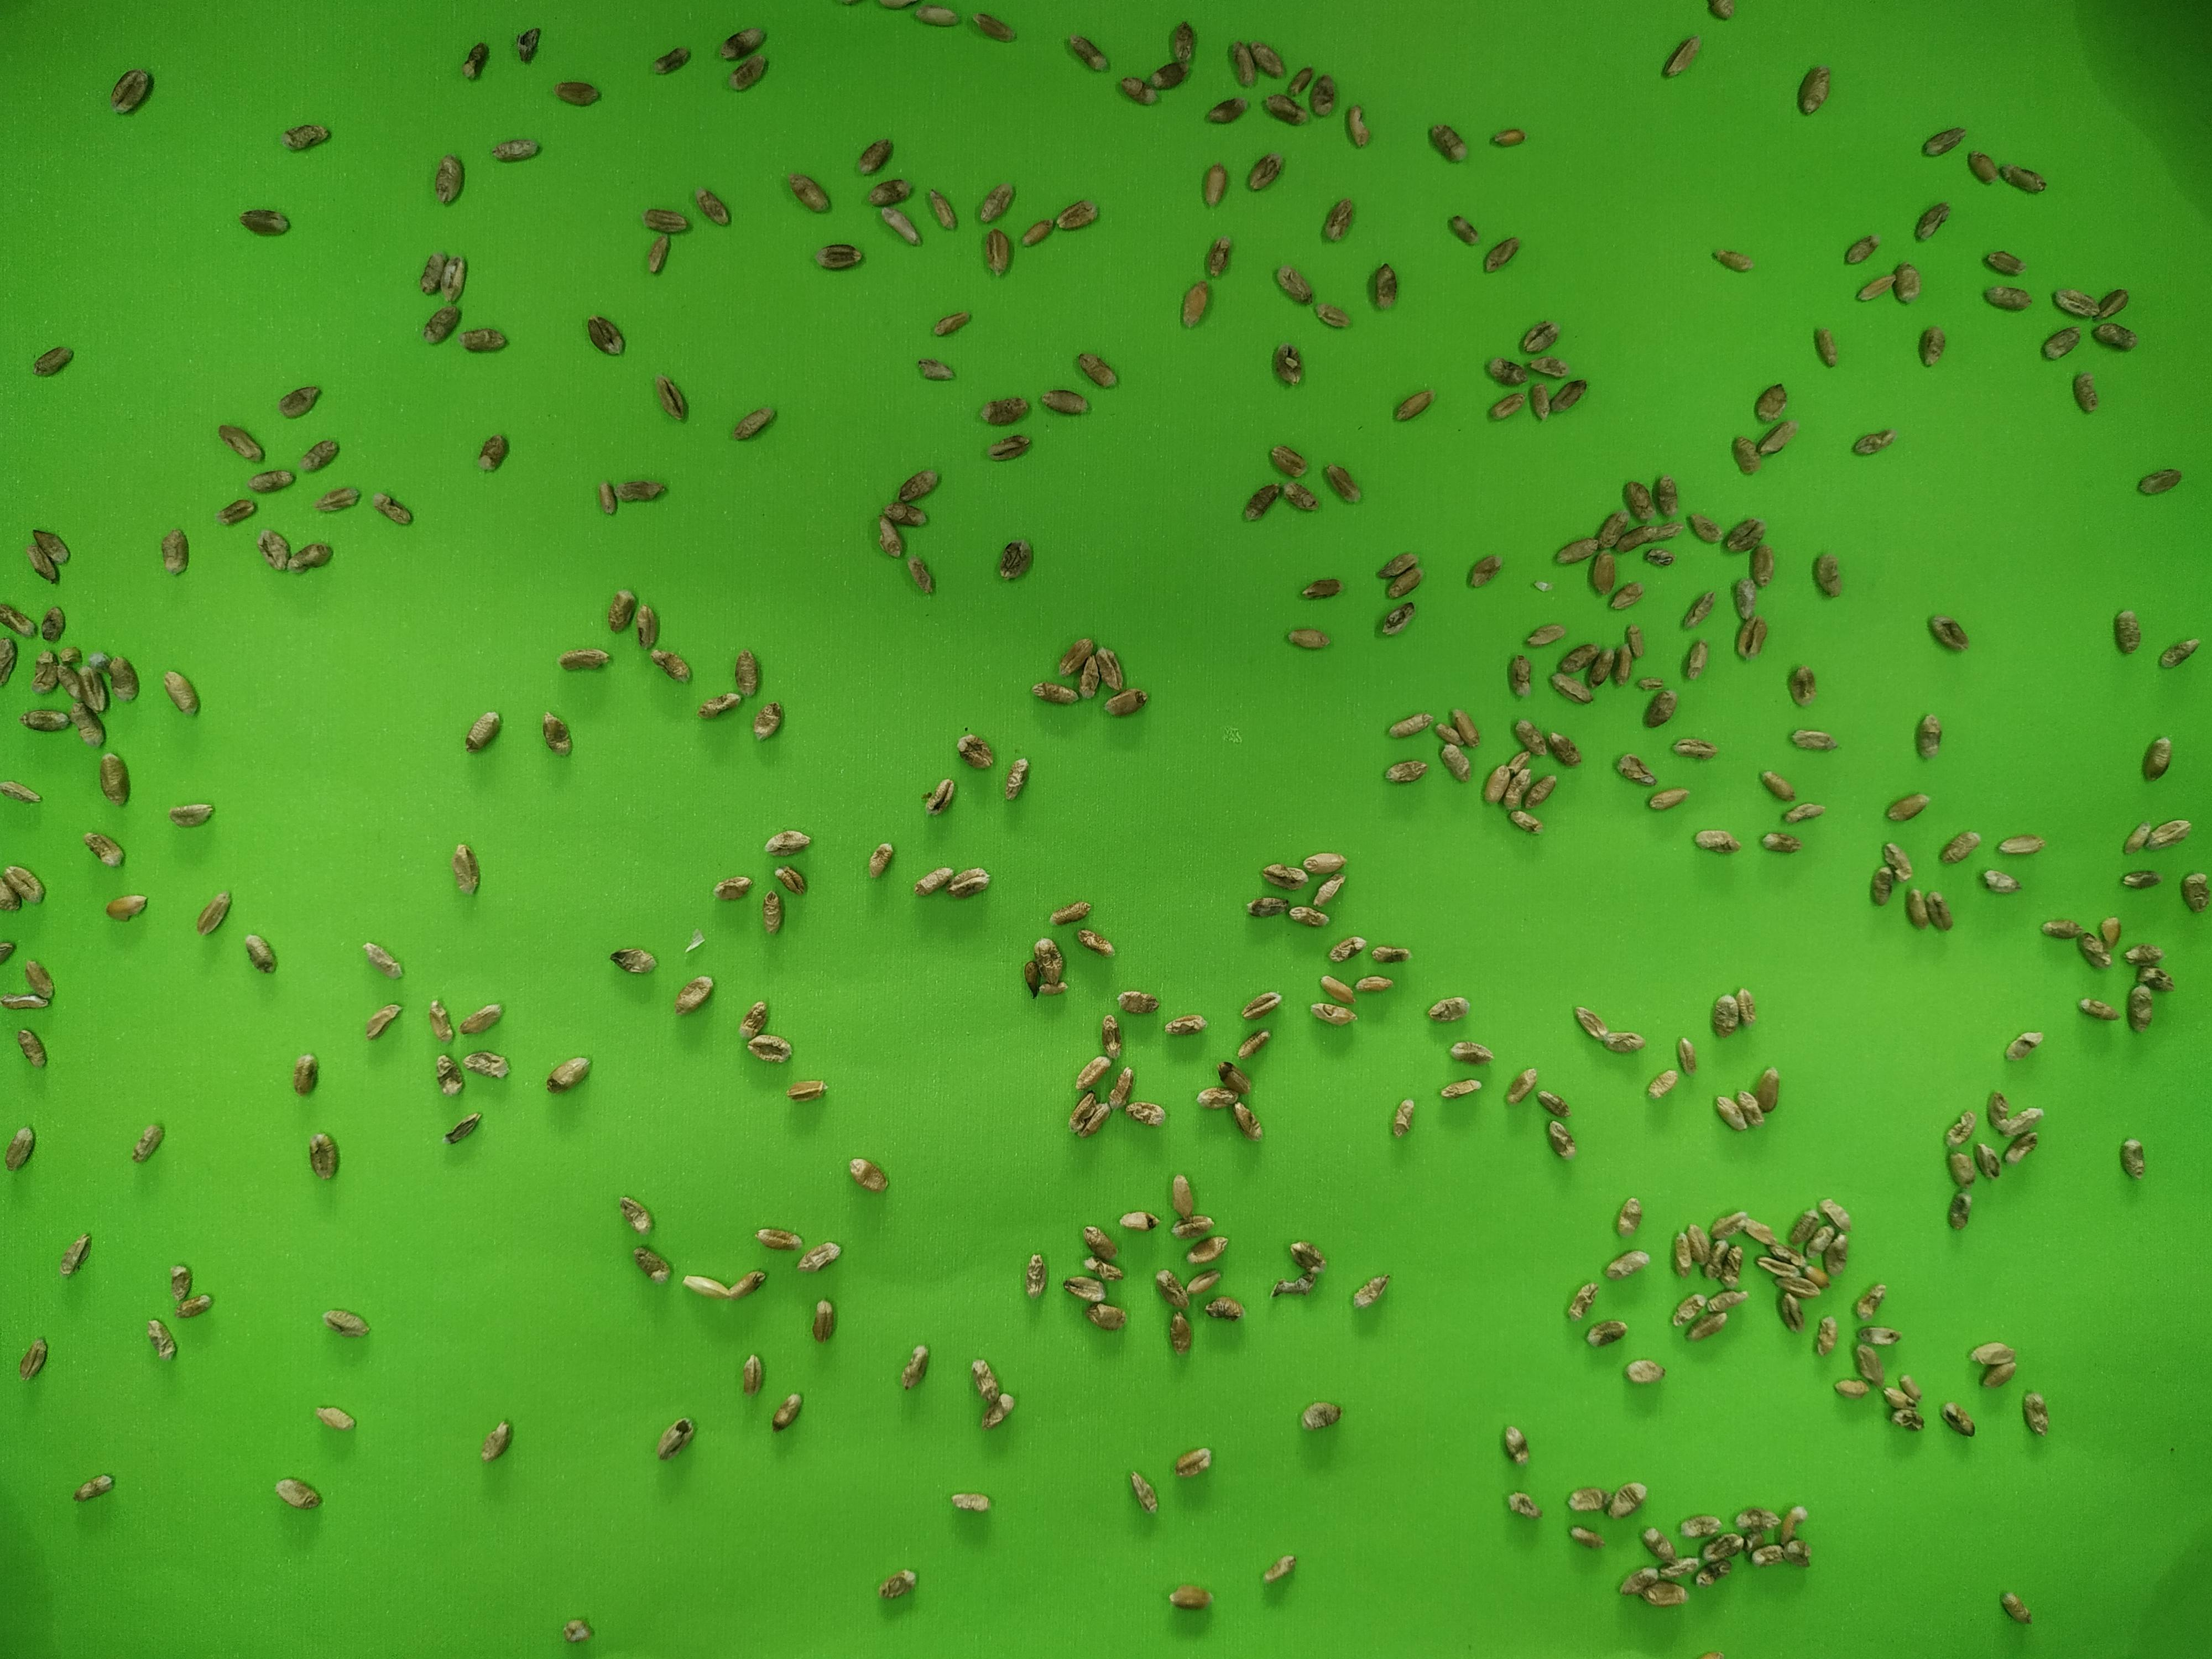danado: (782, 168, 833, 213), (980, 221, 1016, 280), (727, 50, 774, 93), (434, 148, 468, 208), (1320, 195, 1357, 249), (895, 462, 945, 502), (68, 701, 111, 748), (421, 298, 463, 346), (112, 67, 152, 116), (1365, 259, 1401, 315), (1374, 598, 1415, 646), (1924, 612, 1970, 654), (729, 646, 764, 702), (843, 1156, 892, 1196), (612, 1193, 655, 1238), (157, 522, 190, 581), (1178, 275, 1214, 327), (286, 1047, 321, 1102), (997, 536, 1036, 584), (1934, 828, 1987, 864), (1266, 439, 1310, 482), (638, 202, 693, 236), (1712, 1087, 1749, 1138), (2087, 317, 2138, 353), (446, 842, 480, 897), (12, 1022, 50, 1071), (1723, 512, 1764, 558), (160, 667, 200, 714), (255, 525, 294, 572), (536, 710, 573, 760), (1427, 120, 1469, 164), (733, 402, 779, 442), (585, 311, 625, 356), (1269, 338, 1304, 391), (749, 697, 788, 744), (628, 1246, 675, 1285), (27, 527, 69, 570), (4, 865, 48, 907), (1601, 1244, 1650, 1282), (1053, 197, 1102, 235), (83, 828, 128, 869), (546, 1054, 593, 1092), (650, 374, 686, 424), (1124, 1469, 1161, 1516), (2140, 732, 2177, 780), (1783, 658, 1817, 712), (195, 889, 231, 937), (77, 671, 113, 719), (3, 1123, 38, 1173), (1296, 1399, 1345, 1434), (270, 1474, 318, 1510), (1306, 72, 1341, 122), (815, 238, 861, 276), (1103, 684, 1149, 722), (1065, 1098, 1114, 1134), (1307, 999, 1359, 1032), (1103, 1063, 1139, 1113), (1084, 1297, 1131, 1334), (1073, 350, 1120, 387), (2109, 603, 2141, 658), (902, 551, 938, 598), (1259, 88, 1306, 125), (1028, 676, 1079, 709), (317, 1305, 371, 1338), (98, 750, 129, 806), (1678, 635, 1714, 684), (1344, 1275, 1392, 1311), (305, 1128, 337, 1181), (1662, 35, 1704, 77), (1243, 152, 1284, 193), (1757, 416, 1799, 457), (1271, 263, 1313, 304), (1689, 823, 1741, 857), (458, 324, 510, 357), (1944, 1144, 1979, 1192), (1199, 159, 1231, 212), (1248, 40, 1289, 81), (855, 134, 896, 175), (1055, 635, 1095, 677), (1922, 884, 1954, 936), (2067, 366, 2100, 417), (1163, 1007, 1212, 1041), (276, 383, 321, 421), (1077, 1224, 1122, 1262), (1603, 578, 1650, 613), (1619, 476, 1656, 522), (1503, 649, 1534, 702), (1501, 1066, 1544, 1105), (1391, 384, 1433, 424), (761, 826, 811, 859), (1433, 1073, 1489, 1103), (1810, 549, 1842, 601), (1969, 1138, 2007, 1182), (2072, 931, 2117, 968), (1604, 1480, 1649, 1517), (1308, 868, 1349, 909), (975, 182, 1016, 223), (1323, 464, 1364, 504), (1641, 688, 1681, 731), (1890, 258, 1922, 310), (670, 977, 718, 1011), (238, 204, 288, 236), (1241, 986, 1286, 1023), (458, 38, 491, 87), (1674, 1509, 1723, 1542), (1034, 938, 1067, 987), (780, 1073, 831, 1105), (102, 890, 150, 924), (1204, 94, 1251, 128), (1569, 1004, 1610, 1044), (1442, 707, 1481, 749), (796, 1239, 842, 1274), (980, 395, 1030, 428), (966, 11, 1016, 43), (551, 78, 602, 109), (1542, 1119, 1579, 1163), (1752, 379, 1790, 423), (2146, 816, 2192, 851), (436, 253, 471, 300), (1123, 1095, 1170, 1130), (23, 956, 56, 1004), (367, 492, 414, 526), (1464, 550, 1505, 590), (880, 497, 929, 530), (241, 927, 276, 973), (464, 1048, 512, 1082), (1962, 148, 2004, 186), (1797, 69, 1834, 112), (979, 1389, 1017, 1432), (1147, 58, 1193, 92), (472, 432, 509, 476), (926, 188, 963, 231), (58, 1233, 91, 1281), (2035, 913, 2085, 945), (1730, 431, 1763, 479), (1230, 36, 1259, 92), (645, 650, 699, 680), (286, 540, 337, 571), (1999, 161, 2049, 193), (1912, 715, 1946, 762), (2073, 993, 2120, 1027), (1318, 970, 1357, 1010), (747, 1029, 788, 1067), (359, 941, 400, 979), (690, 187, 731, 226), (901, 1339, 931, 1391), (912, 863, 958, 898), (313, 483, 362, 515), (873, 512, 905, 561), (1288, 1237, 1325, 1280), (2124, 985, 2156, 1035), (1854, 1322, 1904, 1353), (1203, 1290, 1249, 1324), (131, 1120, 166, 1164), (466, 709, 504, 750), (1614, 750, 1655, 788), (1045, 896, 1093, 928), (1595, 508, 1630, 553), (1483, 354, 1530, 387), (15, 705, 68, 734), (606, 582, 635, 635), (1682, 589, 1716, 634), (1442, 1034, 1494, 1064), (1068, 928, 1120, 958), (1978, 864, 2025, 897), (1608, 639, 1639, 688), (1912, 200, 1948, 243), (922, 774, 956, 820), (968, 1358, 1001, 1405), (1756, 827, 1803, 860), (1067, 33, 1107, 71), (1775, 1286, 1806, 1335), (1916, 321, 1947, 371), (877, 1566, 921, 1600), (490, 134, 542, 163), (949, 1483, 990, 1520), (482, 1416, 512, 1467), (1641, 1578, 1689, 1610), (1813, 1196, 1855, 1233), (2179, 865, 2210, 914), (1386, 1093, 1418, 1141), (1340, 102, 1372, 150), (1811, 324, 1844, 371), (1167, 1167, 1196, 1221), (609, 945, 657, 977), (1618, 1357, 1667, 1388), (1425, 992, 1471, 1025), (143, 1318, 178, 1361), (559, 643, 609, 673), (1544, 731, 1584, 769), (714, 27, 758, 61), (1937, 1403, 1981, 1437), (1854, 269, 1895, 306), (1828, 1373, 1874, 1405), (18, 1334, 51, 1381), (1202, 232, 1232, 281), (953, 735, 995, 771), (1185, 1234, 1229, 1267), (1214, 1060, 1256, 1096), (1108, 989, 1161, 1018), (909, 0, 961, 29), (297, 437, 340, 473), (753, 1223, 801, 1254), (1284, 622, 1332, 653), (1983, 246, 2026, 280), (1880, 838, 1915, 881), (1172, 1445, 1215, 1479), (1685, 510, 1725, 547), (1994, 831, 2046, 859), (1562, 1281, 1599, 1322), (1983, 1088, 2016, 1132), (1812, 1310, 1841, 1361), (1183, 1264, 1225, 1300), (1016, 214, 1058, 250), (2114, 1135, 2146, 1182), (1193, 1083, 1241, 1114), (1651, 472, 1683, 518), (28, 346, 74, 378), (1114, 74, 1159, 107), (1478, 763, 1516, 802), (1637, 1525, 1677, 1563), (1261, 1550, 1301, 1587), (1561, 1485, 1611, 1514), (1693, 1236, 1727, 1280), (1523, 771, 1559, 811), (1168, 1581, 1216, 1612), (1151, 1266, 1187, 1307), (1583, 644, 1619, 686), (1230, 1101, 1263, 1145), (1323, 933, 1367, 967), (1973, 1337, 2015, 1371), (1668, 1230, 1697, 1281), (1040, 388, 1091, 417), (867, 175, 912, 208), (1084, 1247, 1122, 1285), (1552, 377, 1589, 415), (1757, 765, 1797, 802), (770, 860, 807, 899), (946, 865, 995, 895), (1023, 1250, 1050, 1305), (362, 1001, 401, 1038), (1, 991, 60, 1015), (1945, 1181, 1973, 1234), (1589, 550, 1616, 602), (881, 209, 921, 245), (1985, 281, 2028, 315), (283, 120, 326, 153), (2020, 1386, 2049, 1437), (1749, 540, 1777, 591), (867, 835, 898, 881), (709, 872, 757, 902), (931, 307, 975, 340), (1585, 1316, 1631, 1347), (1301, 847, 1349, 877), (1823, 1232, 1855, 1277), (1348, 971, 1399, 999), (758, 886, 786, 937), (219, 422, 258, 460), (1282, 477, 1319, 516), (1841, 231, 1881, 268), (1116, 1206, 1159, 1239), (1617, 1563, 1660, 1597), (2039, 325, 2079, 361), (1597, 1027, 1646, 1056), (1522, 618, 1568, 650), (2004, 1026, 2039, 1066), (771, 1390, 806, 1430), (1552, 537, 1600, 566), (170, 1292, 219, 1321), (2053, 284, 2094, 319), (649, 44, 693, 77), (1699, 1531, 1743, 1564), (1730, 573, 1760, 620), (2133, 466, 2181, 495), (1503, 1488, 1541, 1524), (1884, 792, 1931, 823), (27, 546, 62, 585), (105, 661, 140, 701), (421, 251, 451, 299), (165, 1258, 195, 1306), (1381, 756, 1429, 785), (1641, 1066, 1681, 1102), (1233, 1026, 1273, 1062), (1243, 481, 1276, 524), (1735, 613, 1763, 664), (1706, 1285, 1755, 1314), (1787, 723, 1833, 754), (1072, 659, 1103, 705), (1164, 1310, 1196, 1354), (2001, 1105, 2048, 1134), (810, 1293, 837, 1344), (1903, 882, 1931, 933), (1073, 1057, 1112, 1093), (724, 1267, 767, 1300), (74, 1470, 116, 1503), (1946, 1107, 1979, 1150), (1167, 20, 1196, 70), (1092, 648, 1126, 688), (1614, 1194, 1645, 1239), (458, 1004, 503, 1034), (1682, 1312, 1729, 1342), (1868, 864, 1900, 907), (1526, 378, 1557, 421), (1441, 738, 1472, 781), (1480, 237, 1519, 273), (1781, 796, 1827, 826), (1443, 213, 1482, 249), (1245, 891, 1289, 922), (1003, 754, 1032, 801), (247, 467, 293, 496), (1999, 1585, 2030, 1628), (1169, 1209, 1210, 1242), (2132, 962, 2176, 993), (1096, 1010, 1123, 1060), (1311, 299, 1355, 330), (1750, 1067, 1780, 1113), (632, 603, 663, 645), (1483, 125, 1526, 156), (697, 692, 744, 720), (615, 476, 663, 504), (1644, 785, 1691, 813), (1270, 1277, 1317, 1305), (433, 1057, 463, 1102), (1382, 712, 1434, 737), (737, 998, 770, 1039), (644, 231, 671, 280), (1505, 805, 1546, 837), (167, 801, 215, 828), (1852, 1283, 1887, 1321), (1556, 644, 1601, 673), (1853, 1342, 1884, 1386), (216, 493, 255, 528), (1500, 1422, 1530, 1466), (1739, 1215, 1781, 1246), (55, 661, 88, 701), (425, 998, 455, 1043), (1919, 128, 1964, 158), (560, 1614, 595, 1651), (1521, 319, 1559, 354), (740, 1348, 765, 1400), (1259, 861, 1302, 891), (1550, 672, 1595, 701), (1389, 562, 1428, 595), (1512, 716, 1543, 758), (1567, 1522, 1609, 1552), (988, 434, 1034, 462), (1771, 1277, 1823, 1302), (1886, 1397, 1923, 1433), (446, 1112, 482, 1147), (1666, 1293, 1703, 1329), (1672, 1035, 1703, 1077), (1730, 982, 1760, 1024), (1766, 1236, 1808, 1266), (1768, 1538, 1817, 1564), (1661, 1550, 1700, 1582), (311, 1403, 358, 1430), (1755, 1252, 1799, 1281), (659, 1417, 693, 1454), (0, 603, 38, 637), (2123, 939, 2166, 968), (510, 26, 541, 66), (2116, 866, 2161, 894), (1708, 1000, 1739, 1040), (1369, 939, 1413, 967), (1710, 247, 1754, 275), (913, 358, 958, 385), (1378, 548, 1425, 574), (1708, 1209, 1752, 1238), (1848, 431, 1897, 456), (32, 655, 64, 693), (1523, 353, 1572, 378), (1301, 573, 1345, 601), (1488, 390, 1526, 422), (1065, 1274, 1105, 1304), (1287, 901, 1327, 931), (2090, 288, 2131, 317), (1533, 1089, 1573, 1119), (592, 478, 622, 518), (1671, 734, 1715, 761), (1886, 1375, 1919, 1410), (2004, 1131, 2037, 1167), (2161, 637, 2197, 669), (1733, 1505, 1777, 1531), (1699, 1556, 1733, 1590), (1750, 1539, 1786, 1571), (44, 599, 69, 644), (1617, 525, 1658, 552), (1721, 1245, 1745, 1292), (1639, 545, 1682, 570), (1286, 62, 1319, 95), (0, 778, 39, 805), (1793, 1207, 1820, 1245), (1625, 622, 1650, 662), (1643, 519, 1683, 542), (2094, 912, 2122, 945), (1805, 1223, 1833, 1256), (1021, 956, 1039, 1000), (1030, 980, 1074, 997), (1803, 1262, 1834, 1286), (1636, 674, 1668, 694)
impureza: (679, 1270, 734, 1300)
